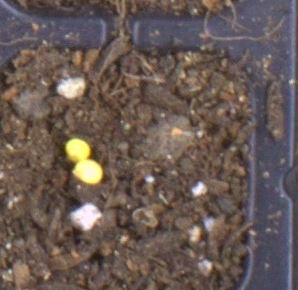chilli seed: (71, 159, 103, 184), (64, 137, 91, 162)
